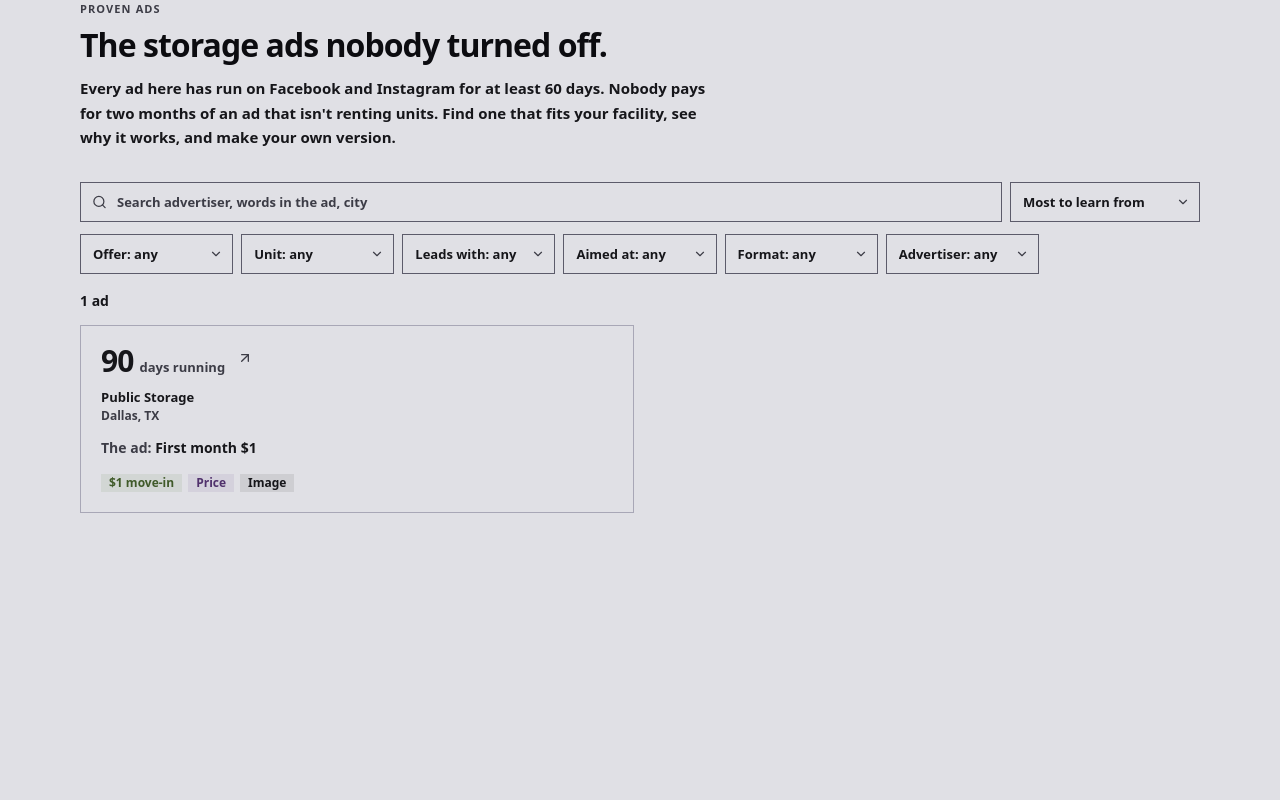
Scenario: Proven Ads recreate › shows the error and stays on the ad when recreate fails
The width and height of the screenshot is (1280, 800).
Click the button with aria-label "Public Storage, 90 days running" at coordinates (117, 360), box [81,326,633,512]
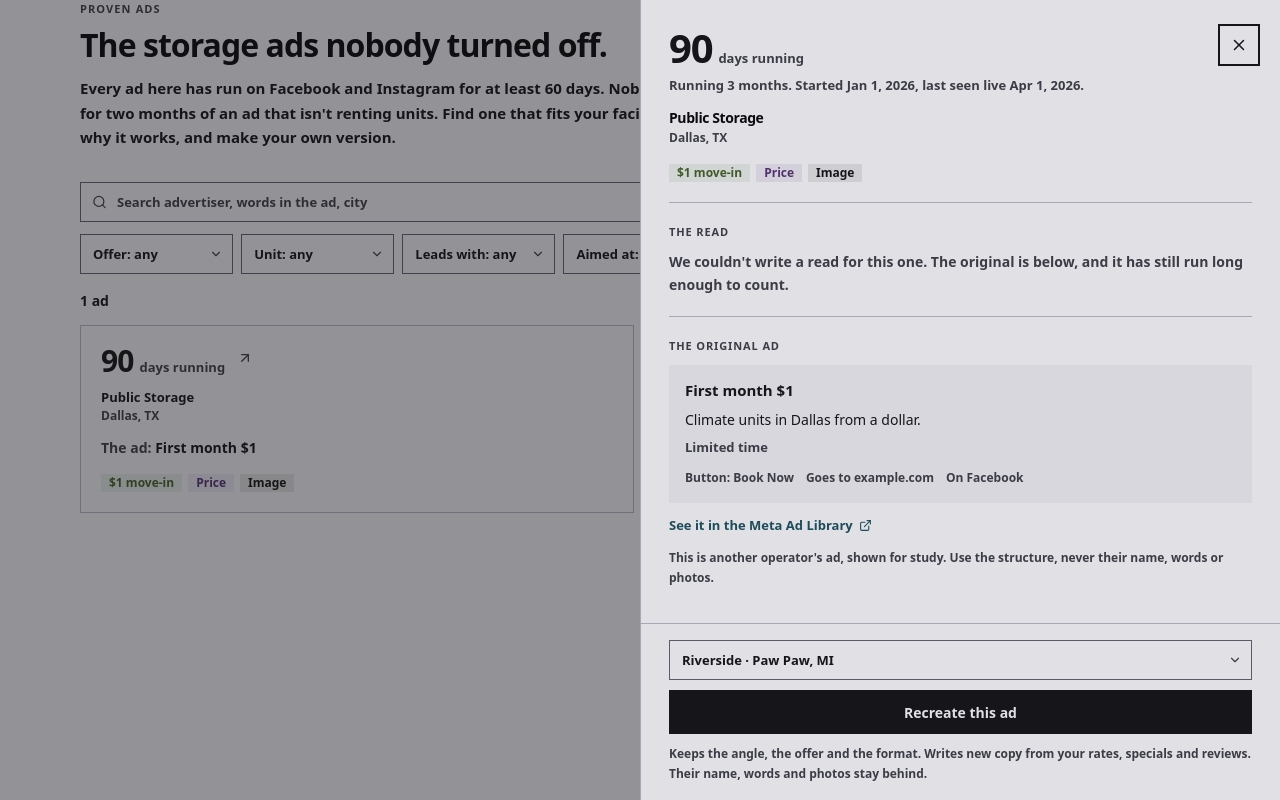
Click the button "Recreate this ad" at coordinates (960, 712), box [669,690,1252,734]
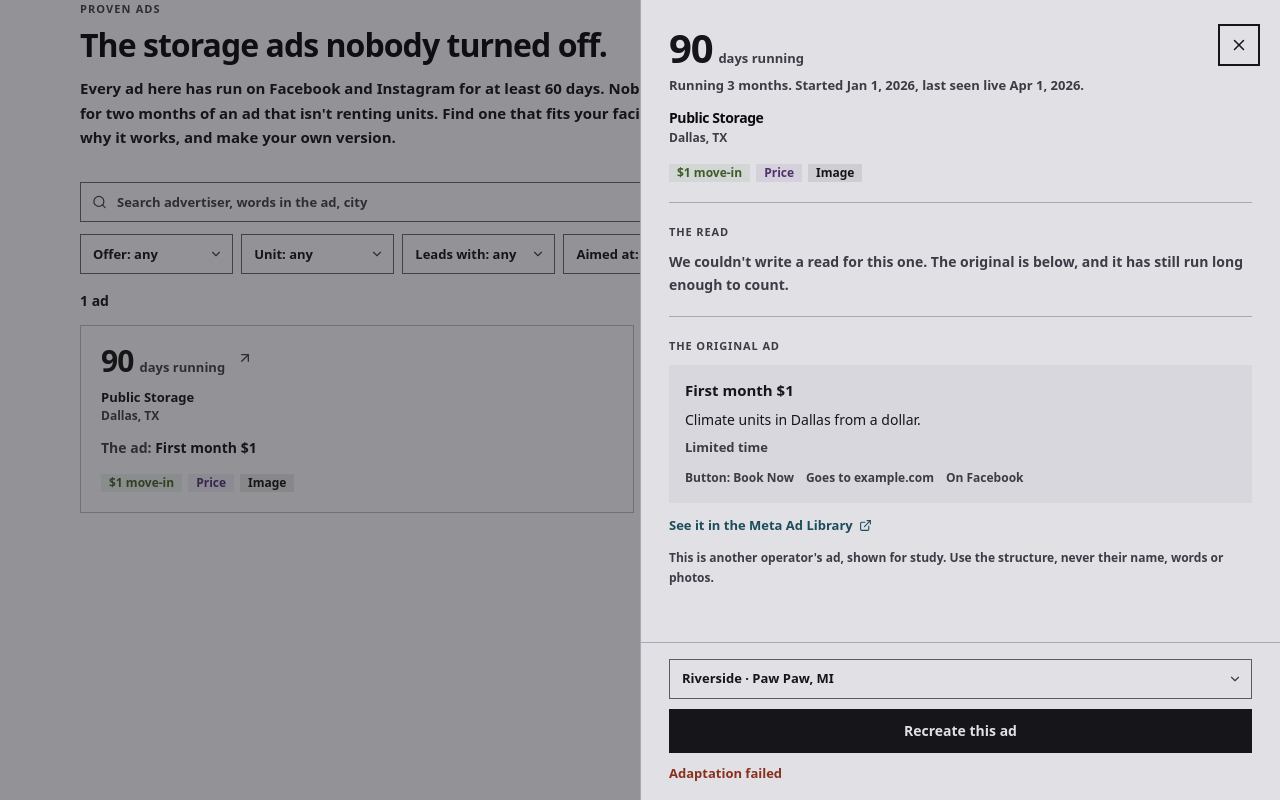
Now the dialog is shown
Now the message reads "Adaptation failed", box [669,764,782,782]
